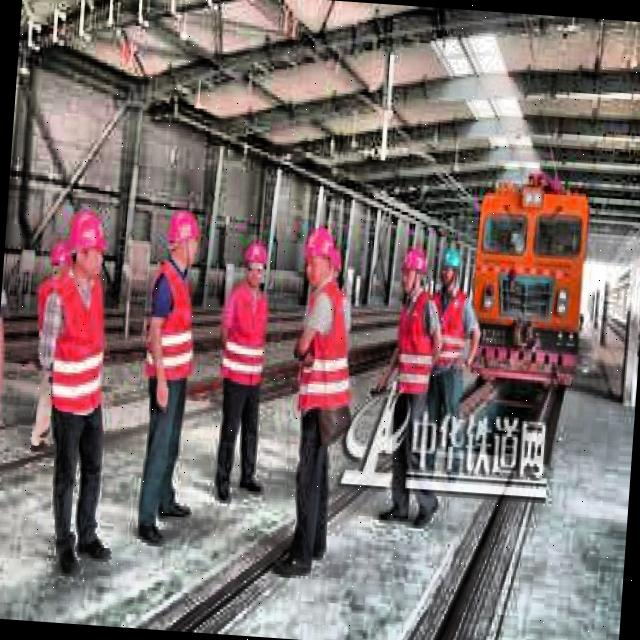helmet: (63, 210, 111, 288), (161, 208, 204, 272), (300, 230, 342, 294), (396, 234, 430, 302), (236, 236, 270, 291), (434, 239, 464, 291), (48, 232, 73, 286)
